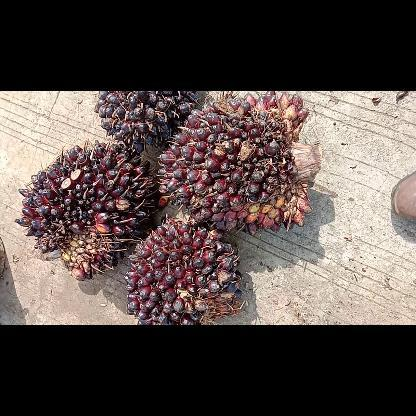TBS mentah: (158, 90, 324, 232), (12, 138, 160, 282), (122, 216, 245, 324), (92, 91, 202, 153)
